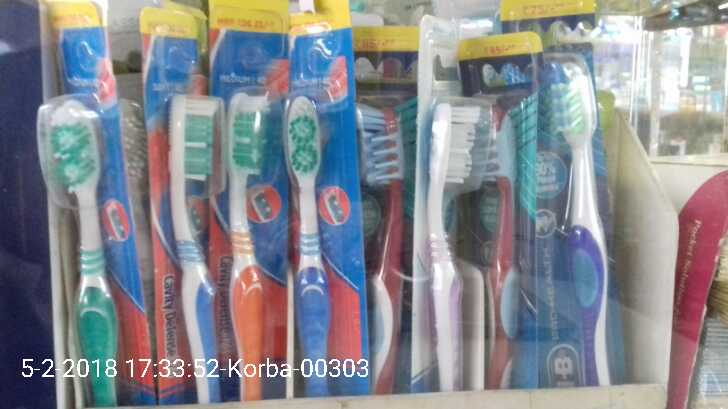oralb: (542, 53, 625, 387), (40, 88, 125, 409), (222, 81, 290, 399), (165, 86, 231, 405), (419, 92, 487, 388), (284, 91, 346, 398)
